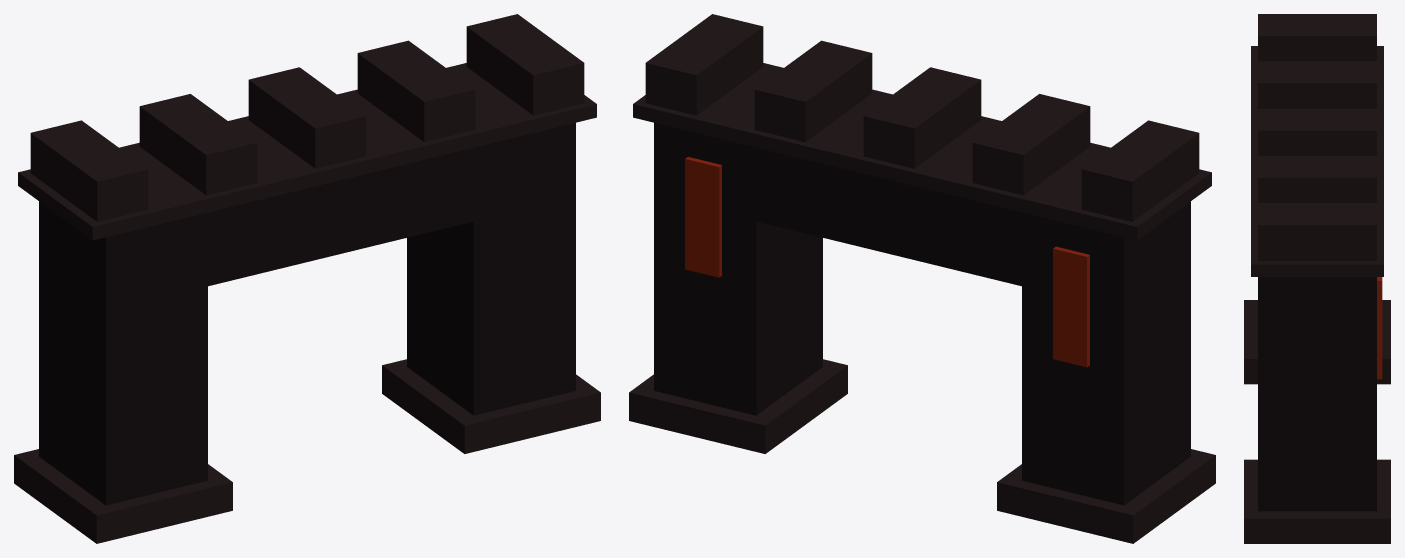
Rendered from fortress_gate.obj.
3 views of the same model, side by side, from view 1: azimuth 30°, elevation 25°; view 2: azimuth 150°, elevation 25°; view 3: azimuth 270°, elevation 25° (orthographic). The views are drawn at different scales.
Visible parts, largest first — view 1: fortress_gate; view 2: fortress_gate; view 3: fortress_gate.
Boxes of the visible parts, x1,y1,x2,y2 form: fortress_gate: (14, 14, 600, 543); fortress_gate: (629, 14, 1215, 543); fortress_gate: (1244, 14, 1390, 543).
Bounding box in the file's own units: 14.8 × 9.94 × 4.2.
